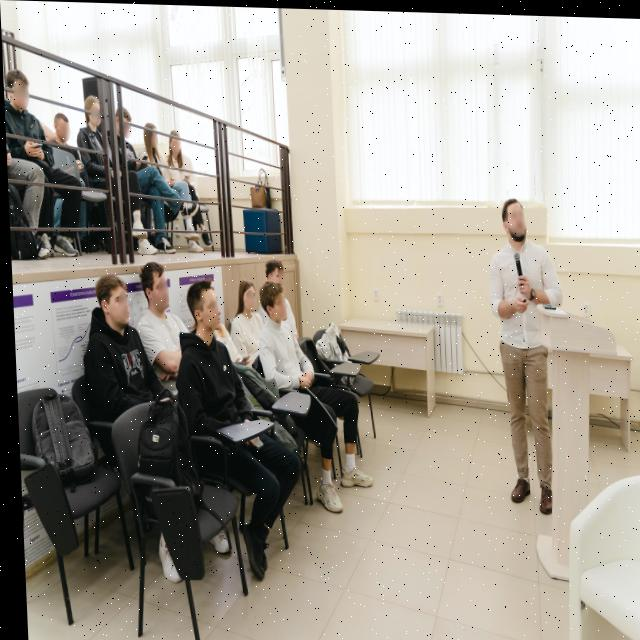Person: (173, 273, 296, 589), (469, 186, 579, 515), (280, 266, 364, 525), (2, 64, 81, 255), (75, 272, 150, 462), (110, 101, 168, 253), (74, 99, 122, 237), (136, 257, 177, 406), (166, 122, 210, 241), (140, 116, 184, 219), (227, 280, 270, 368), (50, 110, 81, 188)
